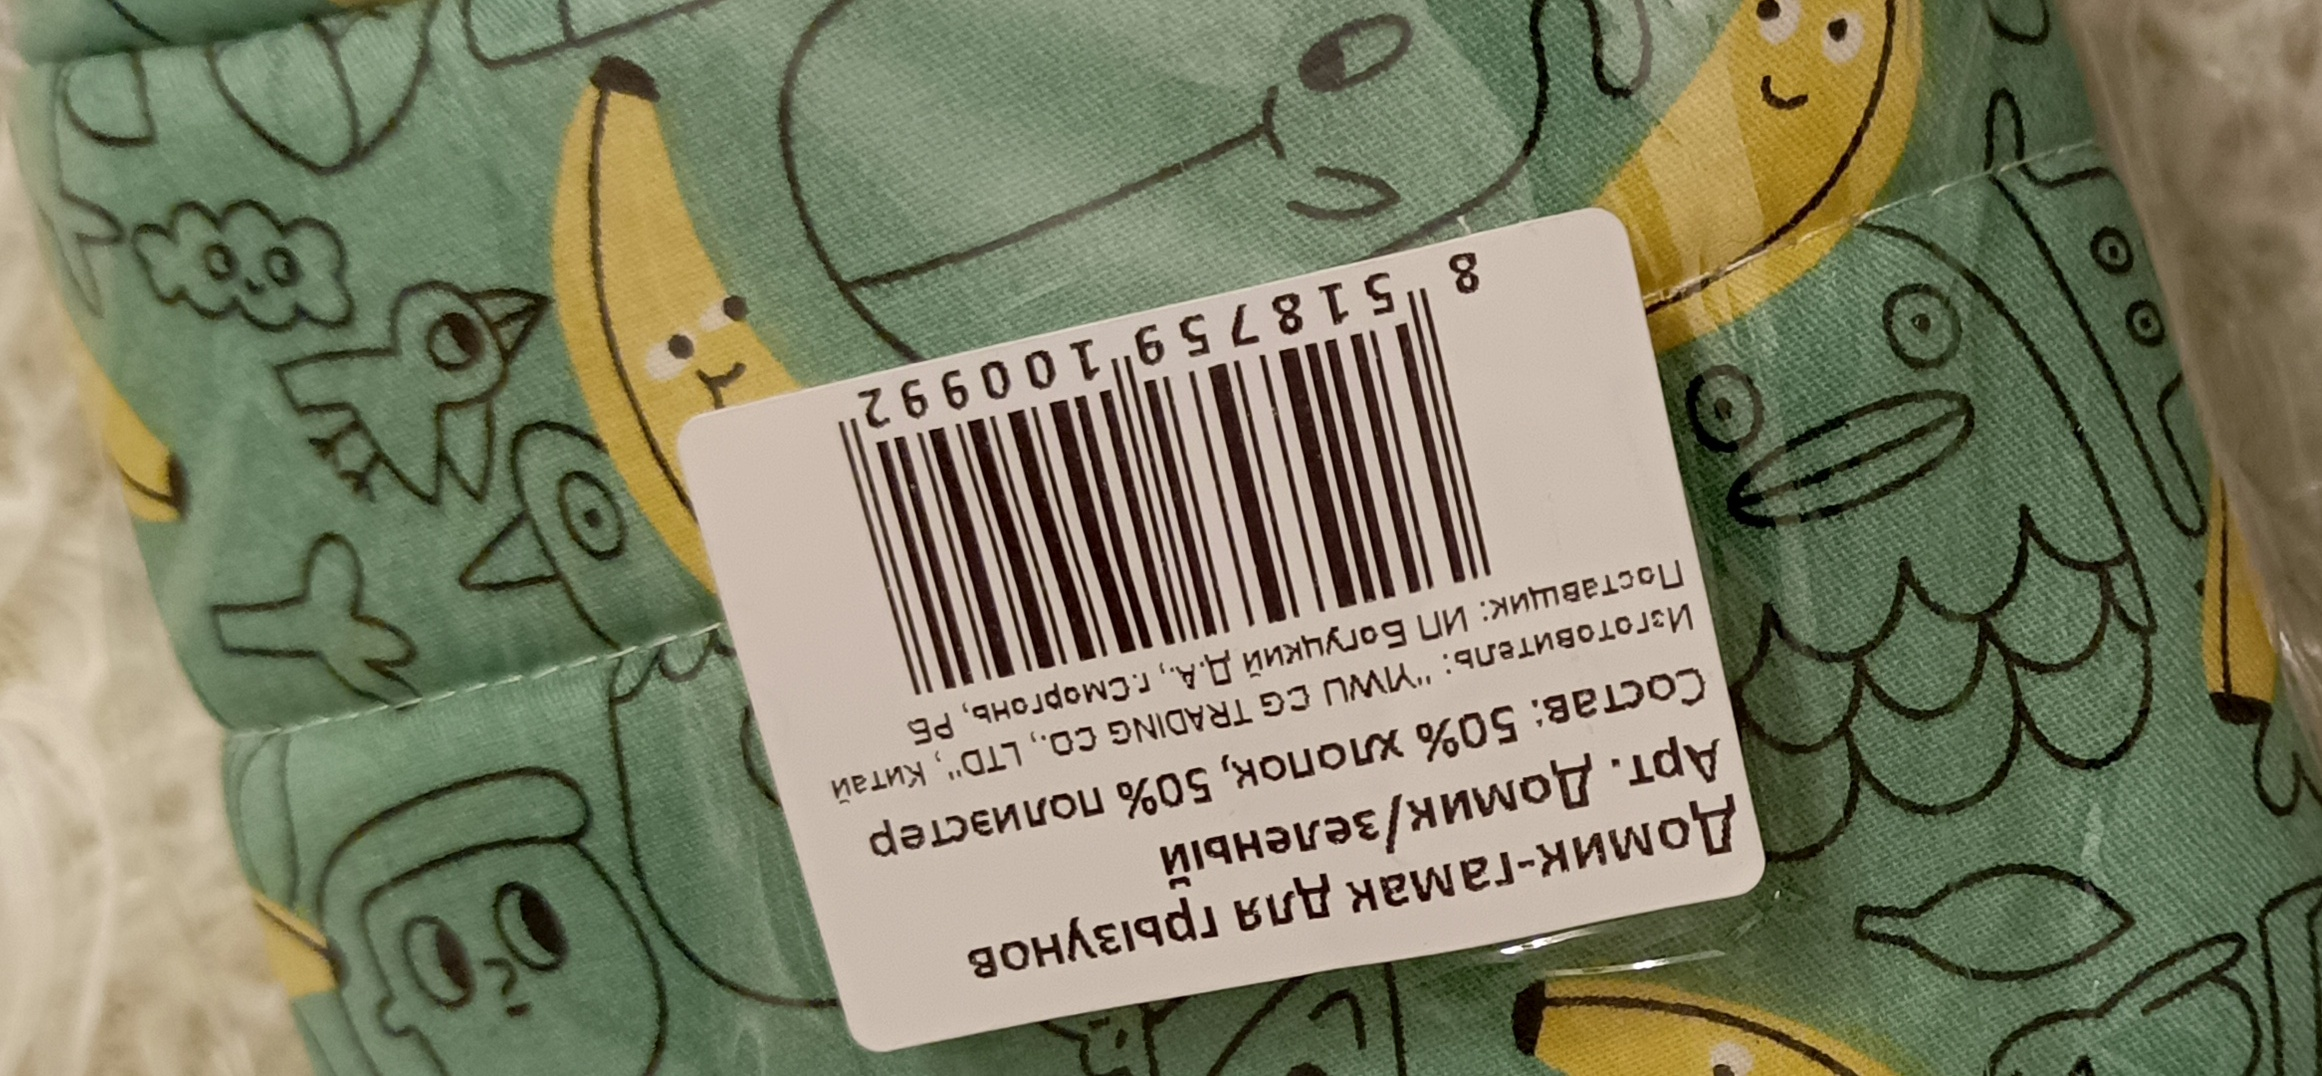1d: (837, 309, 1499, 700)
